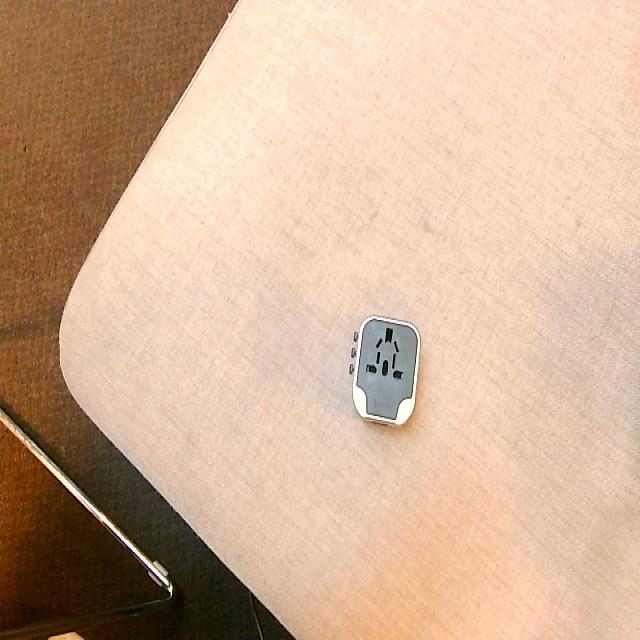adapter: (348, 313, 420, 427)
